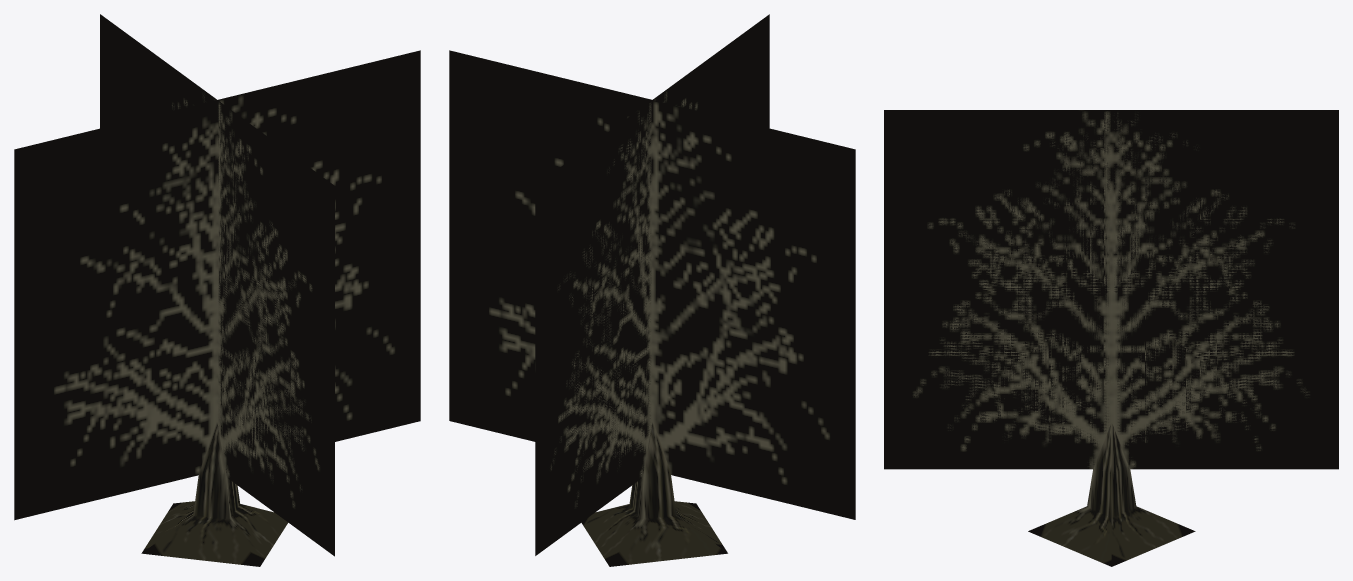
File: oak1dead.glb
3 renders of one model, left to right at view 1: azimuth 30°, elevation 25°; view 2: azimuth 150°, elevation 25°; view 3: azimuth 270°, elevation 25°, orthographic. The views are drawn at different scales.
Visible parts, largest first — view 1: Box02; view 2: Box02; view 3: Box02.
Part boxes in pixels (x1,y1,x2,y2): Box02: (14,14,420,566); Box02: (449,14,855,566); Box02: (884,110,1338,566).
Bounding box in the file's own units: 10.26 × 10.49 × 10.26.
Materials: 1 (1 with a texture image).
